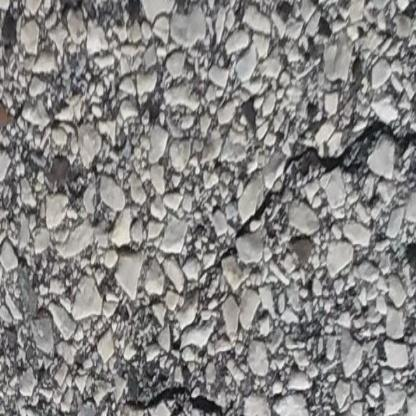Cracks: (293, 114, 416, 175)
